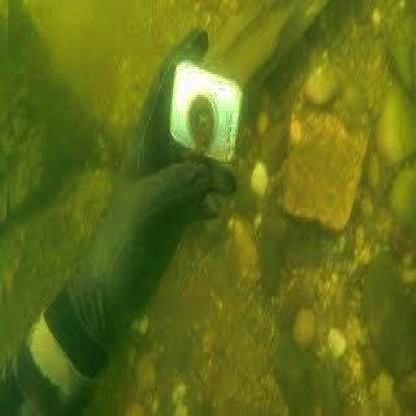electronics: (168, 60, 244, 164)
